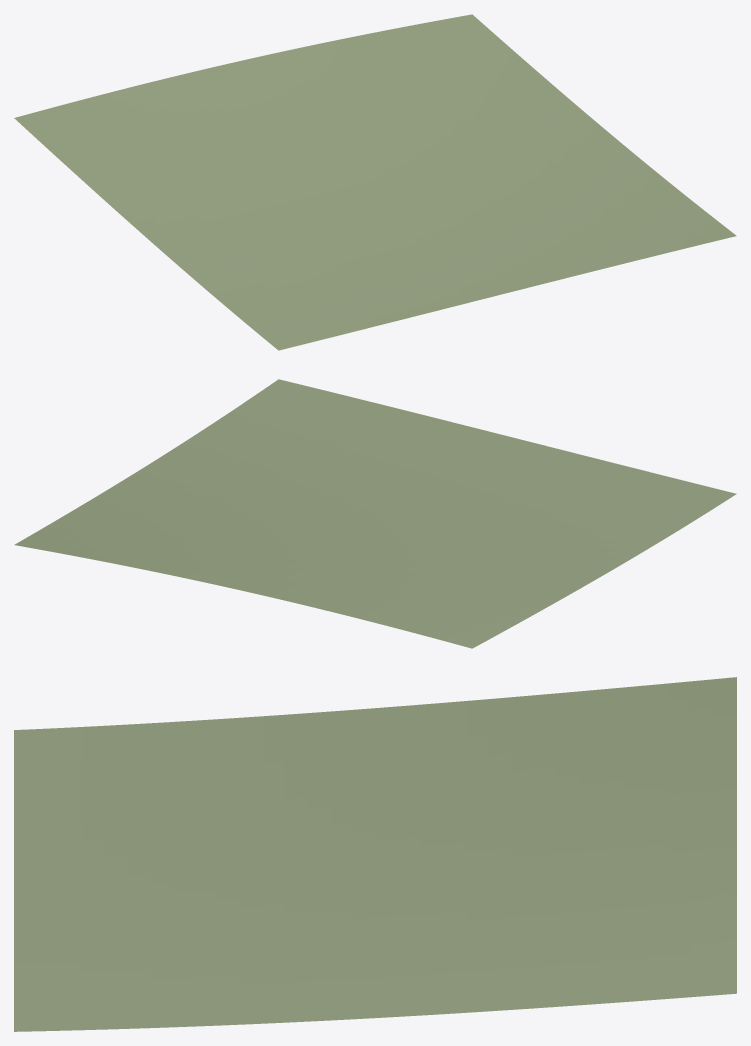
The model's file is expanse-17-20.glb.
3 views of the same model, one above another, from view 1: azimuth 30°, elevation 25°; view 2: azimuth 150°, elevation 25°; view 3: azimuth 270°, elevation 25° (orthographic). The views are drawn at different scales.
Visible parts, largest first — view 1: expanse-17-20; view 2: expanse-17-20; view 3: expanse-17-20.
Boxes of the visible parts, box(x1,y1,x2,y2) form: expanse-17-20: box(14, 14, 736, 350); expanse-17-20: box(14, 379, 736, 648); expanse-17-20: box(14, 677, 736, 1031).
Size of the model in its own units: 256 by 22.06 by 256.
